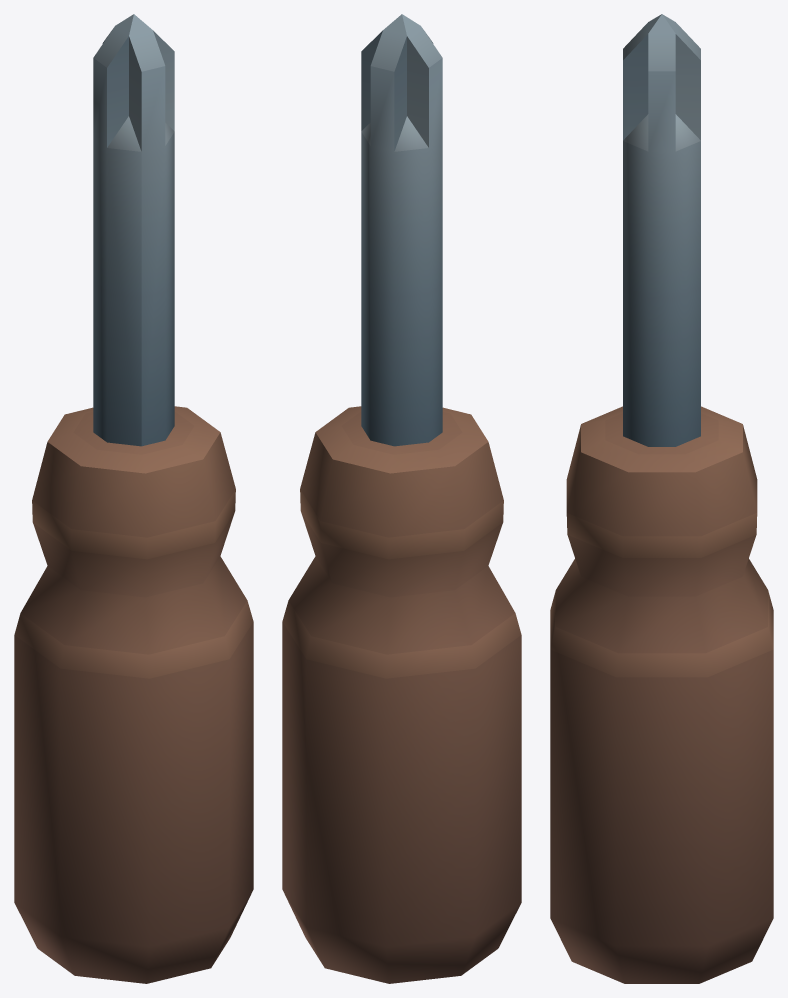
Rendered from screwdriver_b_short.glb.
3 renders of one model, left to right at view 1: azimuth 30°, elevation 25°; view 2: azimuth 150°, elevation 25°; view 3: azimuth 270°, elevation 25°, orthographic.
Parts seen in each view (by area): view 1: screwdriver_B_short; view 2: screwdriver_B_short; view 3: screwdriver_B_short.
Part boxes in pixels (x1=…): screwdriver_B_short: x1=14, y1=14, x2=253, y2=983; screwdriver_B_short: x1=282, y1=14, x2=521, y2=983; screwdriver_B_short: x1=550, y1=14, x2=773, y2=983.
Size of the model in its own units: 0.0908 by 0.4282 by 0.0908.
Materials: 1 (1 with a texture image).
